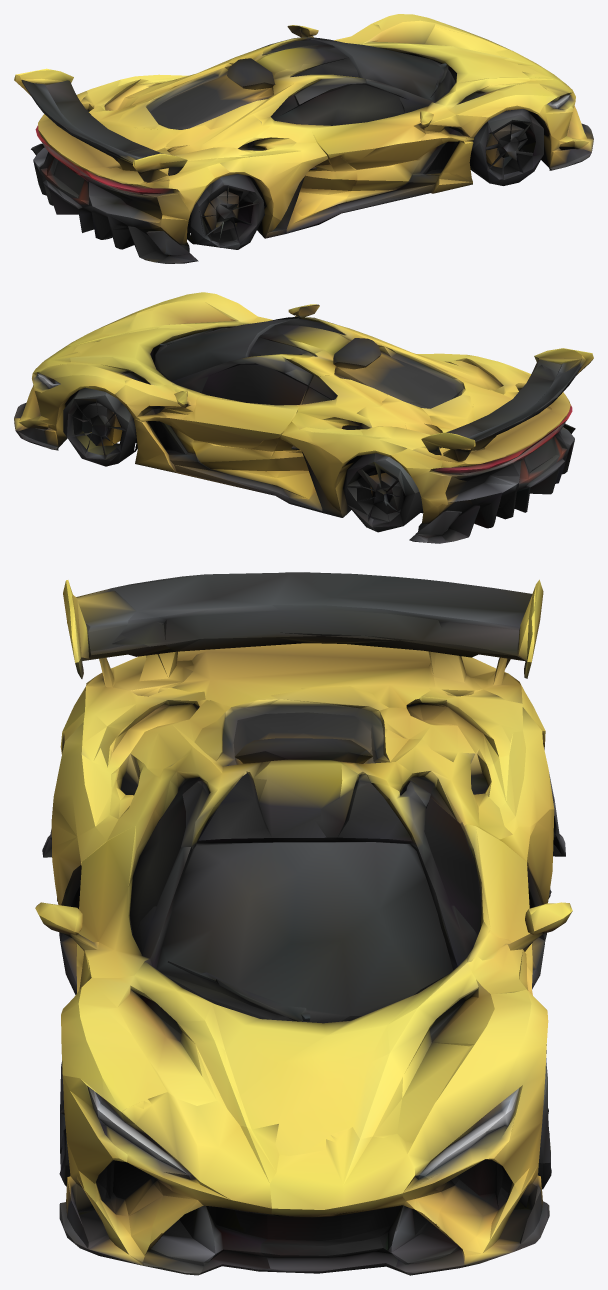
File: rpx_hyperion_race.glb
3 renders of one model, top to bottom at view 1: azimuth 30°, elevation 25°; view 2: azimuth 150°, elevation 25°; view 3: azimuth 270°, elevation 25°, orthographic. The views are drawn at different scales.
Parts seen in each view (by area): view 1: body, wheel_FR_part, wheel_RR_part; view 2: body, wheel_RL_part, wheel_FL_part; view 3: body, wheel_FL_part.
Part boxes in pixels (x1,y1,x2,y2): body: (14,14,593,263); wheel_FR_part: (470,109,543,185); wheel_RR_part: (190,174,264,249); body: (14,292,593,543); wheel_RL_part: (344,453,422,532); wheel_FL_part: (63,387,136,466); body: (35,572,572,1275); wheel_FL_part: (538,1044,551,1189).
Size of the model in its own units: 1.9 by 0.4424 by 0.8726.
